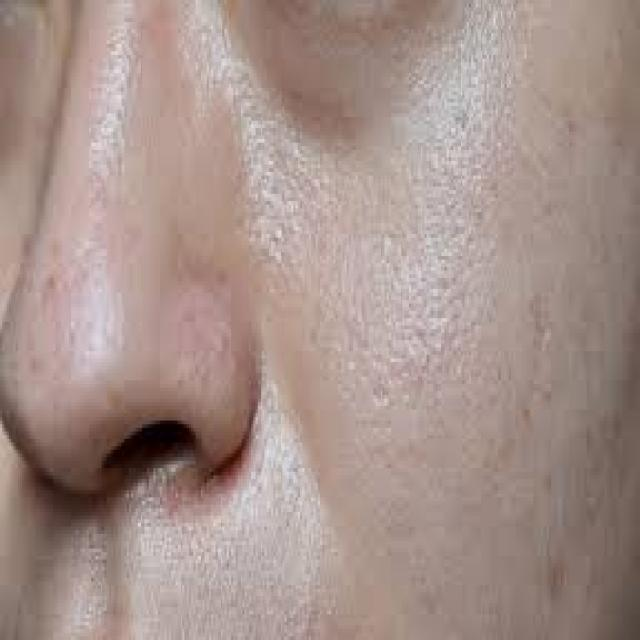oily: (47, 52, 625, 580)
